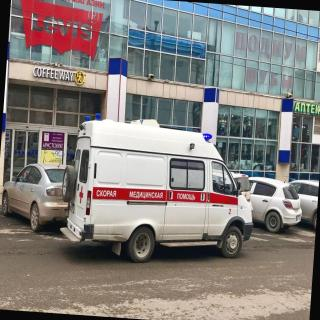Ambulance: (61, 87, 269, 286)
